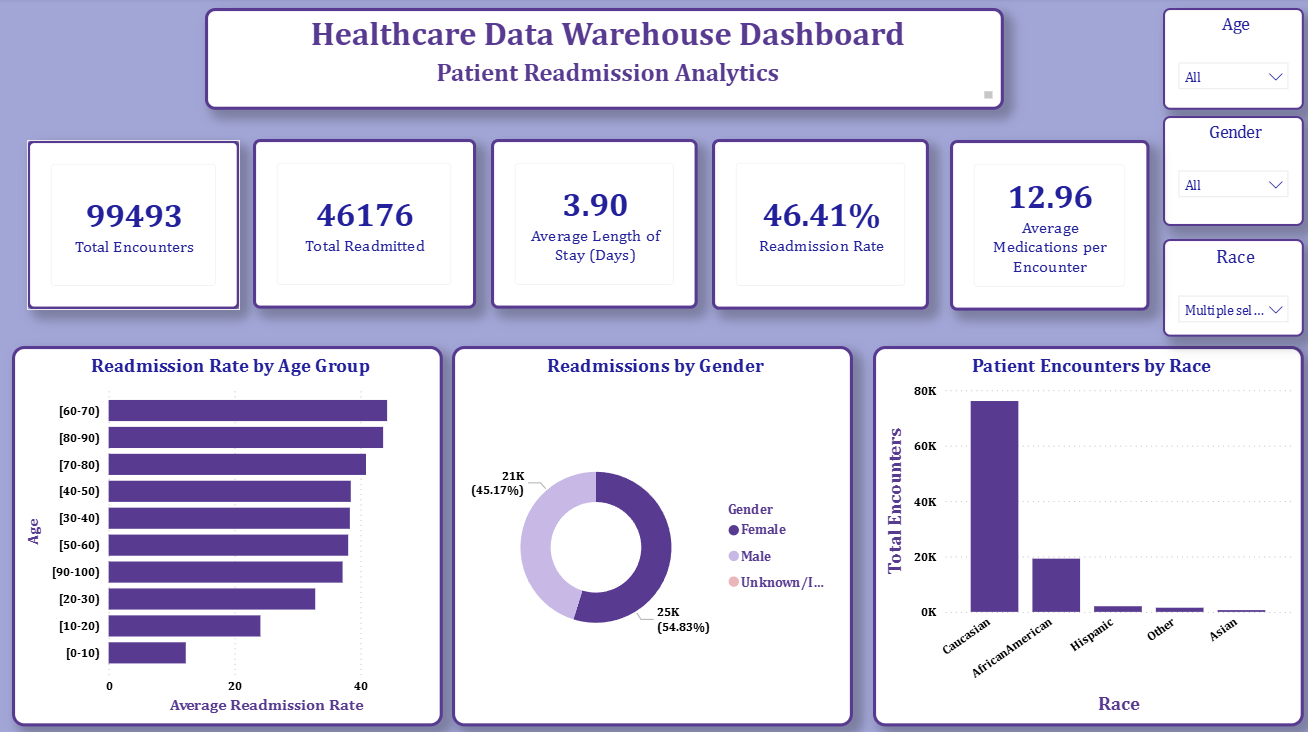

The page's visual inventory and layout, read from the dashboard file:
{"tool":"powerbi","page":{"name":"Executive Overview","canvas":[1280,720],"ordinal":0},"visuals":[{"type":"cardVisual","fields":{"Data":["Sum(gold readmission_summary.total_encounters)"]},"box":[30.2,138.1,207.2,165.3],"z":0},{"type":"cardVisual","fields":{"Data":["Sum(gold readmission_summary.readmitted_count)"]},"box":[250,137.1,216.9,165.3],"z":1000},{"type":"cardVisual","fields":{"Data":["gold readmission_summary.Overall Readmission Rate"]},"box":[696.4,137.1,211.1,166.3],"z":2000},{"type":"cardVisual","fields":{"Data":["gold readmission_summary.Avg Length of Stay"]},"box":[481.5,137.1,201.3,165.3],"z":3000},{"type":"clusteredBarChart","title":"Readmission Rate by Age Group","fields":{"Y":["gold readmission_summary.Avg Readmission Rate"],"Category":["gold readmission_summary.age"]},"box":[15.6,338.5,419.2,369.6],"z":4000},{"type":"donutChart","title":"Readmissions by Gender","fields":{"Category":["gold readmission_summary.gender"],"Y":["Sum(gold readmission_summary.readmitted_count)"]},"box":[443.5,338.5,390,369.6],"z":5000},{"type":"clusteredColumnChart","title":"Patient Encounters by Race","fields":{"Category":["gold readmission_summary.race"],"Y":["Sum(gold readmission_summary.total_encounters)"]},"box":[853,338.5,419.2,369.6],"z":6000},{"type":"textbox","title":"Healthcare Data Warehouse Dashboard","box":[203.3,9.7,777.1,99.2],"z":7000},{"type":"slicer","title":"Age","fields":{"Values":["gold readmission_summary.age"]},"box":[1135.1,9.7,137.1,99.2],"z":8000},{"type":"slicer","title":"Gender","fields":{"Values":["gold readmission_summary.gender"]},"box":[1135.1,114.8,137.1,107],"z":9000},{"type":"slicer","title":"Race","fields":{"Values":["gold readmission_summary.race"]},"box":[1135.1,234.4,137.1,95.3],"z":10000},{"type":"cardVisual","fields":{"Data":["gold readmission_summary.Avg Medications"]},"box":[927.9,138.1,193.6,166.3],"z":11000}]}

Visuals, with their boxes in screenshot pixels (x1, y1, x2, y2), scaled from the page's 1280x720 canvas onto the 1308x732 screenshot:
cardVisual - Sum(gold readmission_summary.total_encounters): rect(31, 140, 243, 308)
cardVisual - Sum(gold readmission_summary.readmitted_count): rect(255, 139, 477, 307)
cardVisual - gold readmission_summary.Overall Readmission Rate: rect(712, 139, 927, 308)
cardVisual - gold readmission_summary.Avg Length of Stay: rect(492, 139, 698, 307)
"Readmission Rate by Age Group" clusteredBarChart: rect(16, 344, 444, 720)
"Readmissions by Gender" donutChart: rect(453, 344, 852, 720)
"Patient Encounters by Race" clusteredColumnChart: rect(872, 344, 1300, 720)
"Healthcare Data Warehouse Dashboard" textbox: rect(208, 10, 1002, 111)
"Age" slicer: rect(1160, 10, 1300, 111)
"Gender" slicer: rect(1160, 117, 1300, 225)
"Race" slicer: rect(1160, 238, 1300, 335)
cardVisual - gold readmission_summary.Avg Medications: rect(948, 140, 1146, 309)
